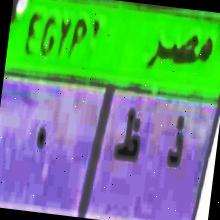0: (30, 112, 51, 164)
Thaa: (105, 97, 148, 180)
zaal: (155, 102, 194, 186)
